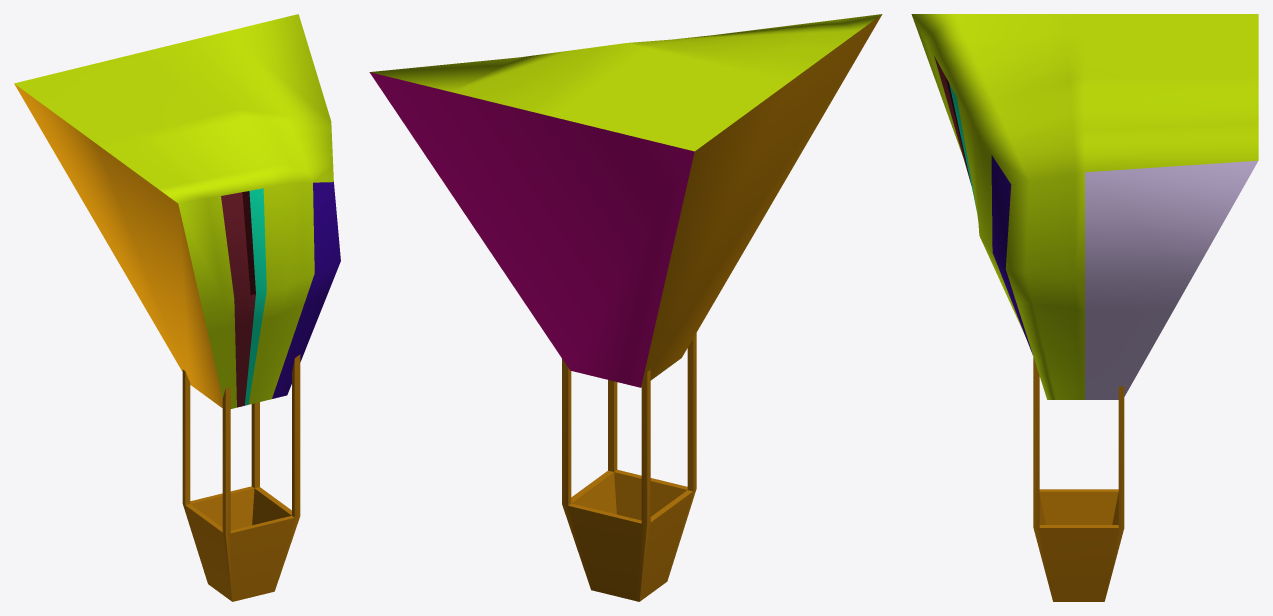
File: PARACHUTE.fbx
The picture shows the model from 3 angles, left to right: view 1: azimuth 30°, elevation 25°; view 2: azimuth 150°, elevation 25°; view 3: azimuth 270°, elevation 25°; orthographic projection. The views are drawn at different scales.
Visible parts, largest first — view 1: pCube1, pCube2; view 2: pCube1, pCube2; view 3: pCube1, pCube2.
Part boxes in pixels (bbox=[...]): pCube1: bbox=[14, 14, 340, 408]; pCube2: bbox=[182, 354, 300, 601]; pCube1: bbox=[369, 14, 882, 387]; pCube2: bbox=[562, 333, 696, 601]; pCube1: bbox=[911, 14, 1258, 399]; pCube2: bbox=[1033, 357, 1124, 601].
Size of the model in its own units: 16.43 by 26.31 by 16.43.
